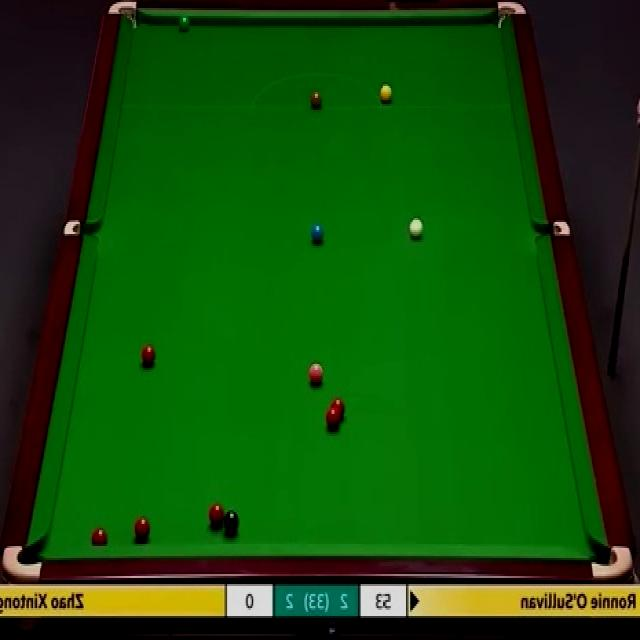black-ball: (223, 511, 240, 533)
blue-ball: (311, 225, 325, 242)
brown-ball: (310, 88, 322, 108)
green-ball: (180, 12, 190, 30)
pink-ball: (310, 362, 322, 386)
red-ball: (133, 515, 151, 540), (208, 504, 225, 530), (142, 344, 156, 369), (332, 398, 346, 422), (324, 411, 340, 430), (91, 528, 108, 545)
white-ball: (408, 217, 424, 241)
yellow-ball: (381, 86, 393, 102)
